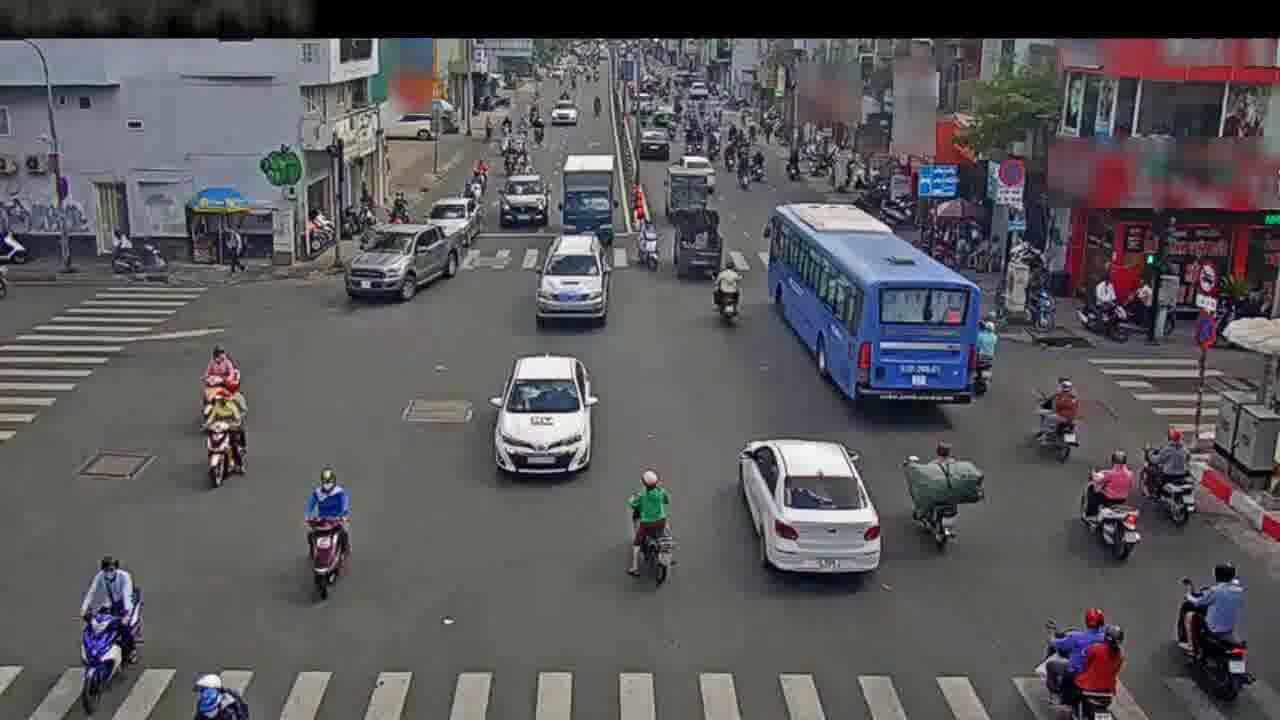14: (764, 205, 973, 400)
8: (558, 155, 614, 235), (672, 206, 718, 280)
container: (748, 438, 878, 588), (497, 351, 589, 480), (340, 225, 452, 304), (534, 229, 605, 328), (504, 169, 548, 236), (664, 162, 711, 224), (631, 118, 674, 168), (552, 96, 577, 133)
motorbike: (1039, 605, 1125, 720), (73, 550, 138, 701), (1177, 557, 1248, 693), (908, 444, 975, 552), (299, 465, 350, 602), (1081, 451, 1140, 557), (626, 462, 675, 588), (1141, 428, 1191, 522), (206, 384, 248, 483), (1033, 380, 1079, 467), (191, 657, 252, 720), (199, 346, 235, 416), (713, 258, 740, 334), (976, 319, 997, 400), (635, 210, 659, 276), (461, 168, 485, 220), (386, 189, 408, 222)
